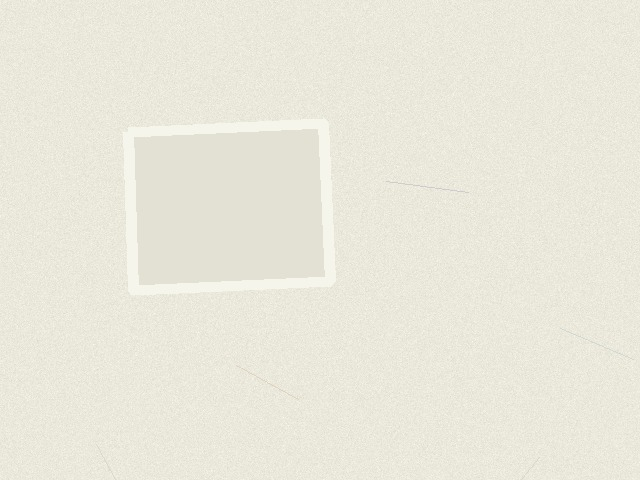parking_area: (128, 123, 330, 290)
